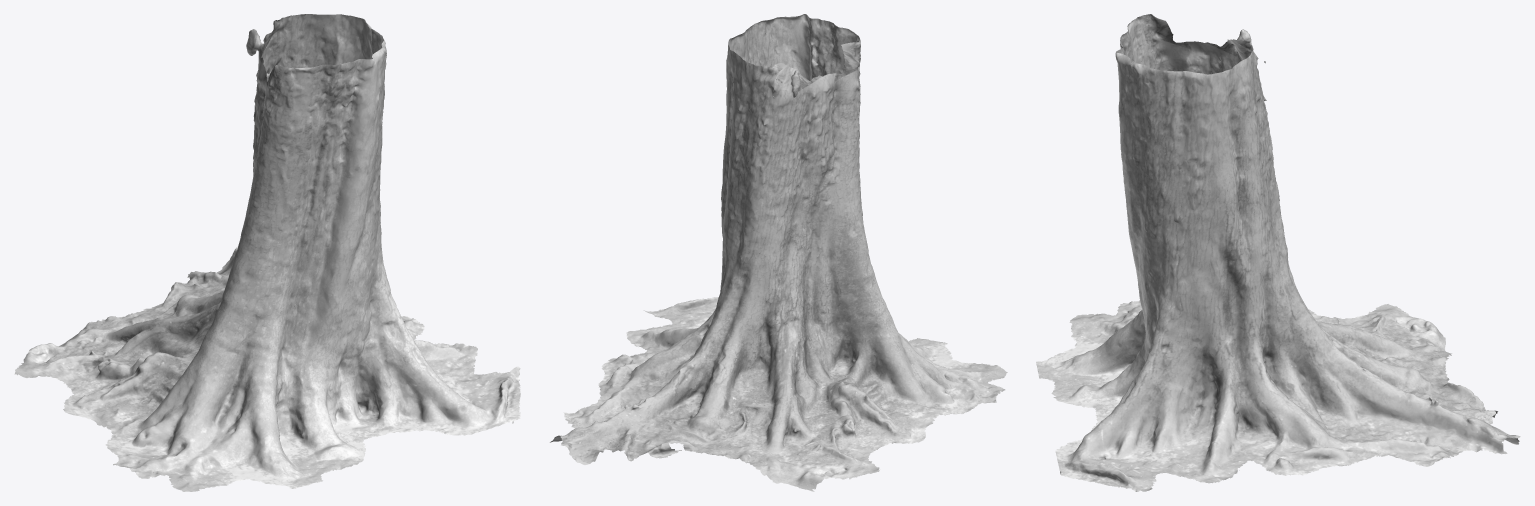
File: tree1.glb
3 renders of one model, left to right at view 1: azimuth 30°, elevation 25°; view 2: azimuth 150°, elevation 25°; view 3: azimuth 270°, elevation 25°, orthographic. The views are drawn at different scales.
Visible parts, largest first — view 1: Tree_13; view 2: Tree_13; view 3: Tree_13.
Part boxes in pixels (x1,y1,x2,y2): Tree_13: (14,14,520,491); Tree_13: (550,14,1007,491); Tree_13: (1036,14,1520,491).
Size of the model in its own units: 3.5 by 3.11 by 3.69.
Materials: 1 (1 with a texture image).
